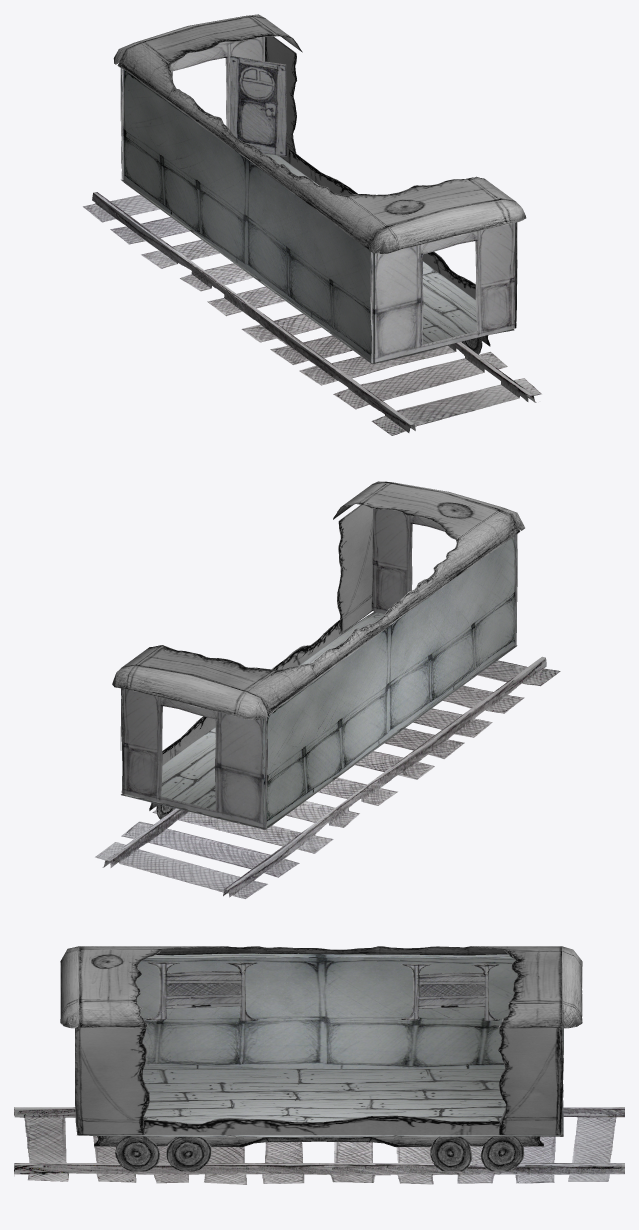
File: Wagon.fbx
The picture shows the model from 3 angles, top to bottom: view 1: azimuth 30°, elevation 25°; view 2: azimuth 150°, elevation 25°; view 3: azimuth 270°, elevation 25°; orthographic projection. The views are drawn at different scales.
Parts seen in each view (by area): view 1: BackWall, TrainTracks, Roof, SideWall, Door.001, Floor, FrontWall, SideWall.001; view 2: BackWall, TrainTracks, Roof, SideWall.001, FrontWall, Floor, SideWall; view 3: BackWall, FrontWall, Floor, TrainTracks, Roof, Wheels, Windows.
Boxes of the visible parts, x1=… form: BackWall: x1=121, y1=68, x2=375, y2=363; TrainTracks: x1=83, y1=192, x2=541, y2=435; Roof: x1=113, y1=14, x2=526, y2=253; SideWall: x1=370, y1=222, x2=517, y2=363; Door.001: x1=230, y1=56, x2=286, y2=156; Floor: x1=121, y1=154, x2=514, y2=364; FrontWall: x1=265, y1=36, x2=516, y2=328; SideWall.001: x1=120, y1=37, x2=264, y2=179; BackWall: x1=263, y1=536, x2=517, y2=827; TrainTracks: x1=95, y1=657, x2=560, y2=898; Roof: x1=112, y1=481, x2=524, y2=719; SideWall.001: x1=120, y1=688, x2=267, y2=828; FrontWall: x1=122, y1=504, x2=372, y2=793; Floor: x1=121, y1=611, x2=517, y2=829; SideWall: x1=373, y1=508, x2=517, y2=645; BackWall: x1=136, y1=953, x2=563, y2=1068; FrontWall: x1=75, y1=1024, x2=563, y2=1135; Floor: x1=77, y1=1069, x2=563, y2=1137; TrainTracks: x1=14, y1=1107, x2=624, y2=1184; Roof: x1=60, y1=946, x2=582, y2=1028; Wheels: x1=94, y1=1136, x2=543, y2=1171; Windows: x1=145, y1=962, x2=501, y2=1020.
Size of the model in its own units: 400 by 250 by 750.
